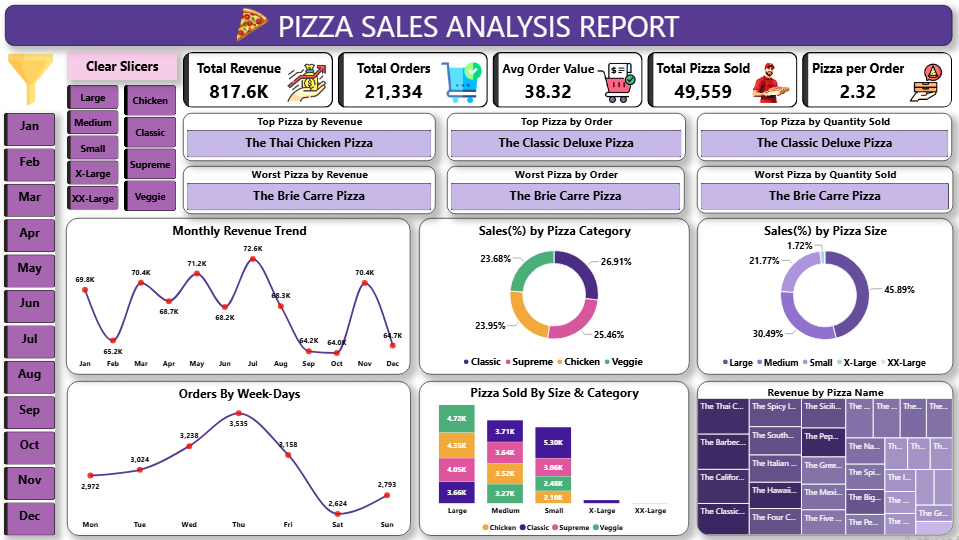

The dashboard page shown, as its layout file describes it:
{"tool":"powerbi","page":{"name":"Page 1","canvas":[1600,900],"ordinal":0},"visuals":[{"type":"cardVisual","title":"shgjj","fields":{"Data":["PIZZA SALES.Total Revenue","PIZZA SALES.Total orders","PIZZA SALES.Avg order value","PIZZA SALES.Total Pizza Sold","PIZZA SALES.Avg Pizza / Order"]},"box":[304.2,86.4,1283.4,93.6],"z":0},{"type":"lineChart","title":"Monthly Revenue Trend","fields":{"Category":["PIZZA SALES.Month Name"],"Y":["PIZZA SALES.Total Revenue"]},"box":[109.8,363.6,574.2,261],"z":1000},{"type":"lineChart","title":"Orders By Week-Days","fields":{"Category":["PIZZA SALES.Day Name"],"Y":["PIZZA SALES.Total Orders"]},"box":[111.2,635,572.5,257.5],"z":2000},{"type":"donutChart","title":"Sales(%) by Pizza Category","fields":{"Category":["PIZZA SALES.pizza_category"],"Y":["PIZZA SALES.Total Revenue"]},"box":[698,363.6,450.5,260.6],"z":3000},{"type":"donutChart","title":"Sales(%) by Pizza Size","fields":{"Y":["PIZZA SALES.Total Revenue"],"Category":["PIZZA SALES.pizza_size"]},"box":[1161,363.6,426.6,261],"z":4000},{"type":"columnChart","title":"Pizza Sold By Size & Category","fields":{"Category":["PIZZA SALES.pizza_size"],"Series":["PIZZA SALES.pizza_category"],"Y":["PIZZA SALES.Total Orders"]},"box":[698.3,635.3,450,257.8],"z":5000},{"type":"treemap","title":"Revenue by Pizza Name","fields":{"Values":["PIZZA SALES.Total Revenue"],"Group":["PIZZA SALES.pizza_name"]},"box":[1161,635.4,426.6,257.4],"z":6000},{"type":"advancedSlicerVisual","title":"Top Pizza by Revenue ","fields":{"Values":["PIZZA SALES.pizza_name"],"Label":["PIZZA SALES.Total Revenue"]},"box":[304.4,188.2,420.5,80.2],"z":7000},{"type":"advancedSlicerVisual","title":"Top Pizza by Order","fields":{"Values":["PIZZA SALES.pizza_name"],"Label":["PIZZA SALES.Total Revenue"]},"box":[744.5,188.2,397.6,80.2],"z":8000},{"type":"advancedSlicerVisual","title":"Top Pizza by Quantity Sold","fields":{"Values":["PIZZA SALES.pizza_name"],"Label":["PIZZA SALES.Total Revenue"]},"box":[1161.8,188.2,425.5,80.2],"z":9000},{"type":"advancedSlicerVisual","title":"Worst Pizza by Revenue ","fields":{"Values":["PIZZA SALES.pizza_name"],"Label":["PIZZA SALES.Total Revenue"]},"box":[304.4,276.5,420.5,80.2],"z":10000},{"type":"advancedSlicerVisual","fields":{"Values":["PIZZA SALES.Month Name"]},"box":[7.3,188.5,85.4,704.2],"z":11000},{"type":"advancedSlicerVisual","title":"Worst Pizza by Order","fields":{"Values":["PIZZA SALES.pizza_name"],"Label":["PIZZA SALES.Total Revenue"]},"box":[744.5,276.5,396,80.2],"z":12000},{"type":"advancedSlicerVisual","title":"Worst Pizza by Quantity Sold","fields":{"Values":["PIZZA SALES.pizza_name"],"Label":["PIZZA SALES.Total Revenue"]},"box":[1161,277.2,426.6,79.2],"z":13000},{"type":"advancedSlicerVisual","fields":{"Values":["PIZZA SALES.pizza_size"]},"box":[111.3,142.3,86.6,212.4],"z":14000},{"type":"advancedSlicerVisual","fields":{"Values":["PIZZA SALES.pizza_category"]},"box":[207.2,142.3,87.6,210.3],"z":15000},{"type":"image","box":[9,77.4,86.4,111.6],"z":16000},{"type":"textbox","box":[9,9,1578.6,68.4],"z":17000},{"type":"image","box":[303.8,8.9,230.4,68.4],"z":18000},{"type":"actionButton","title":"VVHKNLBK","box":[111.2,86.2,183.6,46.6],"z":19000}]}

Visuals, with their boxes in screenshot pixels (x1, y1, x2, y2), scaled from the page's 1600x900 canvas onto the 959x540 screenshot:
"shgjj" cardVisual: region(182, 52, 952, 108)
"Monthly Revenue Trend" lineChart: region(66, 218, 410, 375)
"Orders By Week-Days" lineChart: region(67, 381, 410, 536)
"Sales(%) by Pizza Category" donutChart: region(418, 218, 688, 375)
"Sales(%) by Pizza Size" donutChart: region(696, 218, 952, 375)
"Pizza Sold By Size & Category" columnChart: region(419, 381, 688, 536)
"Revenue by Pizza Name" treemap: region(696, 381, 952, 536)
"Top Pizza by Revenue " advancedSlicerVisual: region(182, 113, 434, 161)
"Top Pizza by Order" advancedSlicerVisual: region(446, 113, 685, 161)
"Top Pizza by Quantity Sold" advancedSlicerVisual: region(696, 113, 951, 161)
"Worst Pizza by Revenue " advancedSlicerVisual: region(182, 166, 434, 214)
advancedSlicerVisual - PIZZA SALES.Month Name: region(4, 113, 56, 536)
"Worst Pizza by Order" advancedSlicerVisual: region(446, 166, 684, 214)
"Worst Pizza by Quantity Sold" advancedSlicerVisual: region(696, 166, 952, 214)
advancedSlicerVisual - PIZZA SALES.pizza_size: region(67, 85, 119, 213)
advancedSlicerVisual - PIZZA SALES.pizza_category: region(124, 85, 177, 212)
image: region(5, 46, 57, 113)
textbox: region(5, 5, 952, 46)
image: region(182, 5, 320, 46)
"VVHKNLBK" actionButton: region(67, 52, 177, 80)
